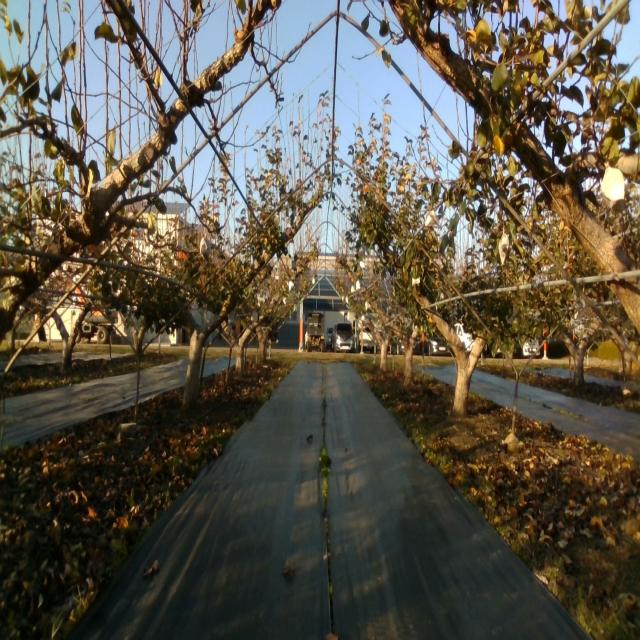pearbags: (601, 161, 625, 211), (498, 226, 510, 267), (200, 233, 211, 262), (424, 209, 440, 228)
